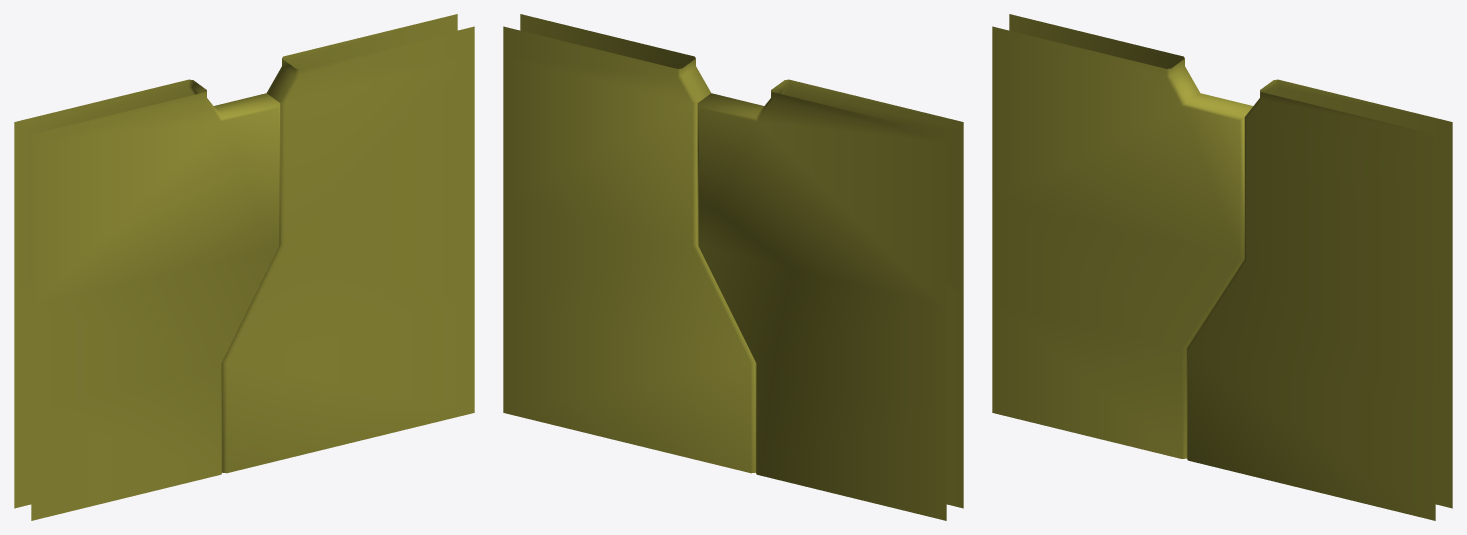
Rendered from SM_ElevatorDoor_E.fbx.
The picture shows the model from 3 angles, left to right: view 1: azimuth 30°, elevation 25°; view 2: azimuth 150°, elevation 25°; view 3: azimuth 330°, elevation 25°; orthographic projection.
Visible parts, largest first — view 1: SM_ElevatorDoor_E; view 2: SM_ElevatorDoor_E; view 3: SM_ElevatorDoor_E.
Boxes of the visible parts, x1,y1,x2,y2 form: SM_ElevatorDoor_E: (14,14,474,520); SM_ElevatorDoor_E: (503,14,963,520); SM_ElevatorDoor_E: (992,14,1452,520).
Bounding box in the file's own units: 300 × 20 × 250.
